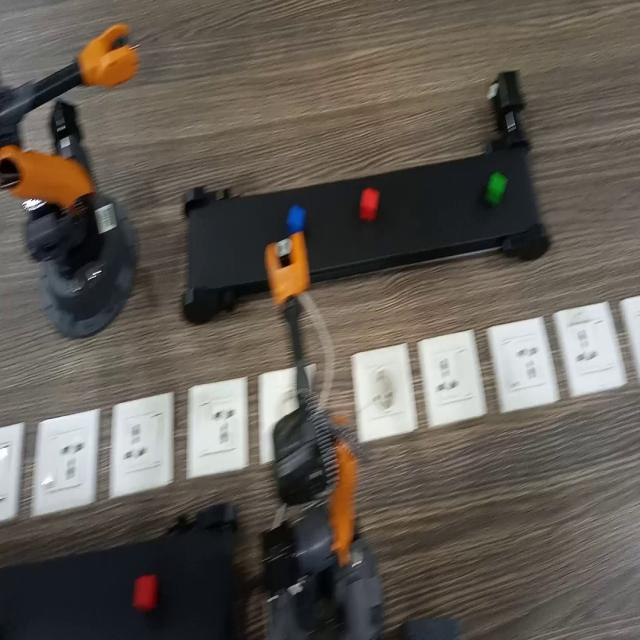cube: (133, 569, 162, 615), (483, 168, 510, 208), (358, 182, 382, 223), (285, 201, 308, 234)
